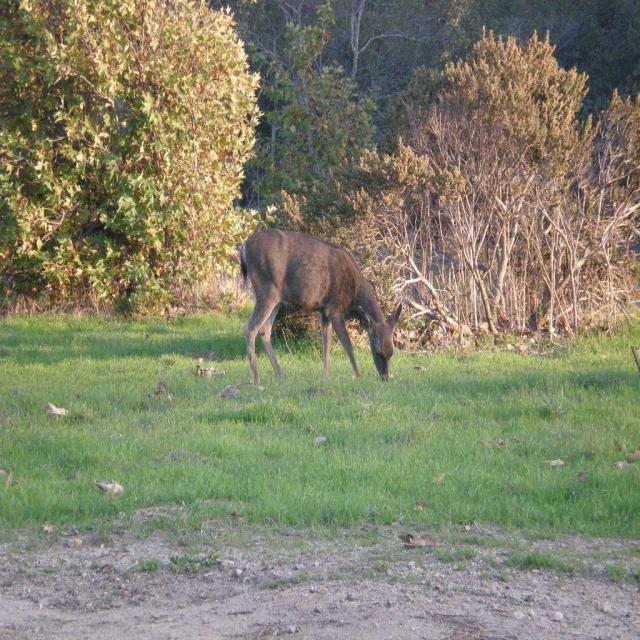Deer: (243, 224, 402, 385)
